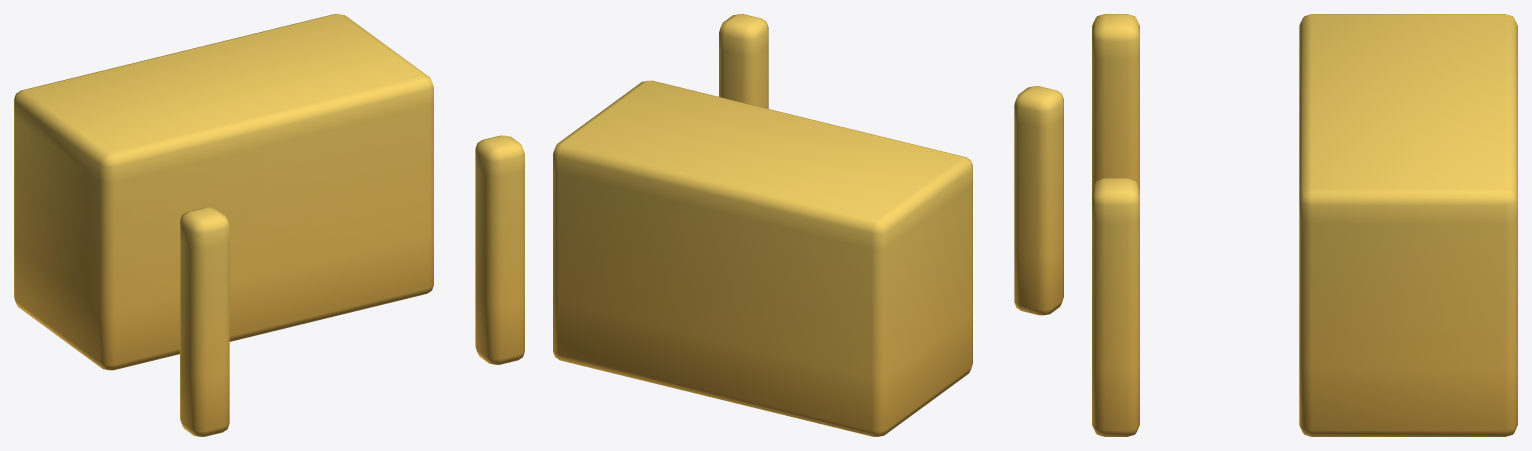
Rendered from mct_homepart_room02b.fbx.
3 renders of one model, left to right at view 1: azimuth 30°, elevation 25°; view 2: azimuth 150°, elevation 25°; view 3: azimuth 270°, elevation 25°, orthographic. The views are drawn at different scales.
Parts seen in each view (by area): view 1: room_02b; view 2: room_02b; view 3: room_02b.
Part boxes in pixels (x1=…): room_02b: x1=14, y1=14, x2=524, y2=436; room_02b: x1=553, y1=14, x2=1063, y2=436; room_02b: x1=1092, y1=14, x2=1517, y2=436.
Bounding box in the file's own units: 400 × 250 × 389.
